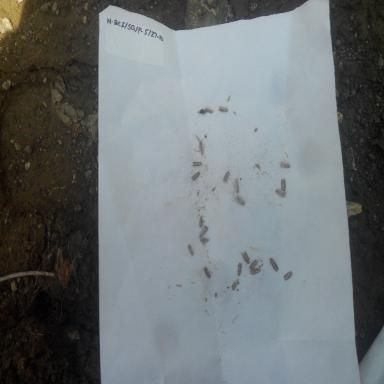pbw: (238, 248, 251, 266), (278, 157, 292, 172), (232, 194, 248, 207), (282, 269, 295, 285), (219, 102, 232, 118), (202, 104, 216, 118), (232, 175, 242, 194), (273, 186, 287, 199), (270, 255, 280, 273), (196, 236, 213, 246), (202, 263, 212, 280), (246, 257, 259, 270), (197, 225, 209, 239), (188, 158, 204, 168), (235, 260, 244, 276), (231, 277, 240, 292), (190, 170, 202, 181), (223, 169, 231, 184), (197, 212, 204, 228), (187, 242, 195, 256), (281, 179, 288, 193), (248, 268, 263, 274)
